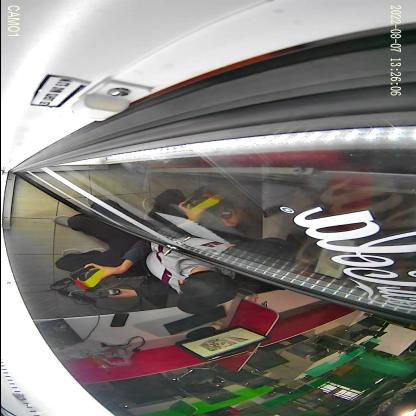red: (68, 265, 108, 293)
yellow: (76, 268, 105, 289)
